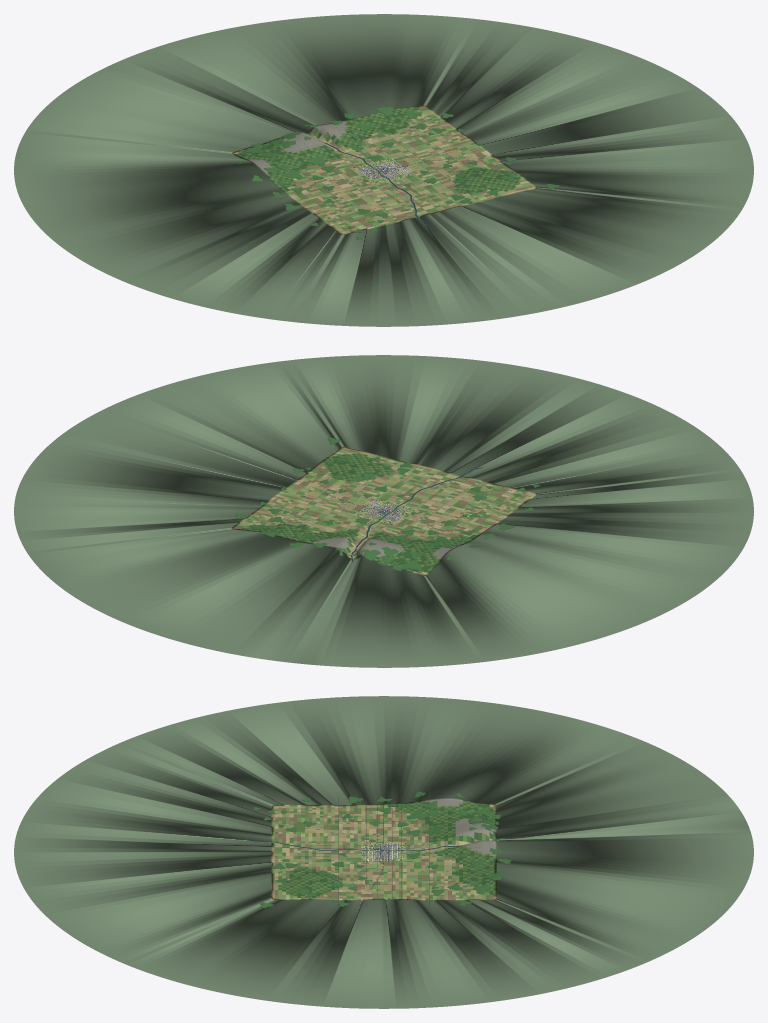
File: act1_overview.glb
3 views of the same model, one above another, from view 1: azimuth 30°, elevation 25°; view 2: azimuth 150°, elevation 25°; view 3: azimuth 270°, elevation 25° (orthographic).
Parts seen in each view (by area): view 1: outskirts_terrain, outskirts_ov_forest, outskirts_ov_road; view 2: outskirts_terrain, outskirts_ov_forest; view 3: outskirts_terrain, outskirts_ov_forest, outskirts_ov_road.
Boxes of the visible parts, box(x1,y1,x2,y2) form: outskirts_terrain: box(14, 14, 753, 326); outskirts_ov_forest: box(238, 106, 559, 239); outskirts_ov_road: box(246, 101, 518, 226); outskirts_terrain: box(14, 355, 753, 667); outskirts_ov_forest: box(235, 438, 540, 571); outskirts_terrain: box(14, 696, 753, 1008); outskirts_ov_forest: box(253, 791, 512, 908); outskirts_ov_road: box(250, 789, 517, 908).
Size of the model in its own units: 36000 by 464 by 36000.
